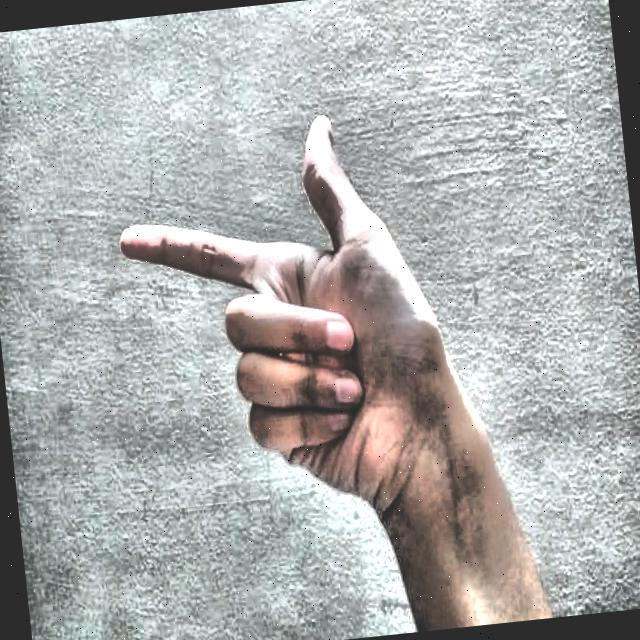Tho: (80, 68, 535, 551)
